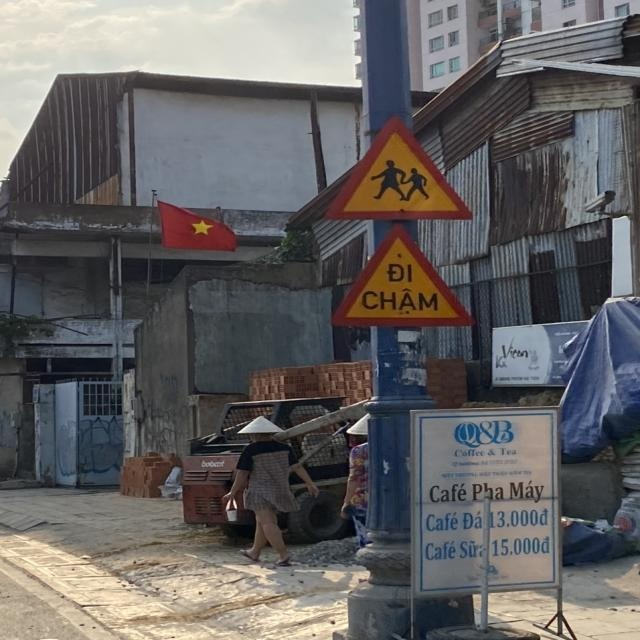bien_nguy_hiem: (325, 224, 477, 329), (330, 116, 473, 218)
